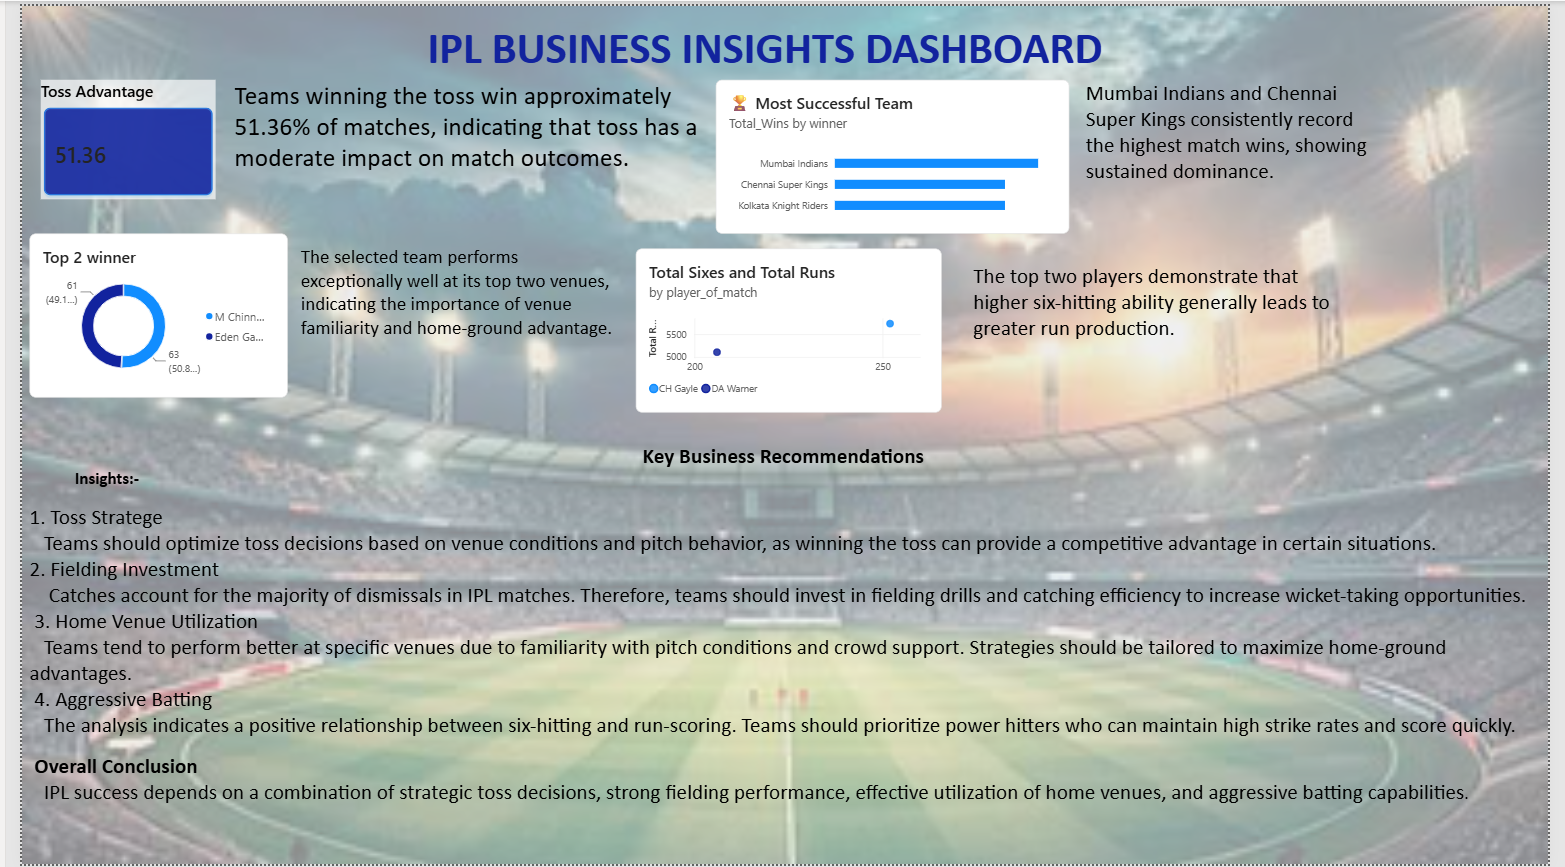

The dashboard page shown, as its layout file describes it:
{"tool":"powerbi","page":{"name":"Business insights","canvas":[1920,1080],"ordinal":5},"visuals":[{"type":"textbox","box":[10,0,1850,93.3],"z":0},{"type":"cardVisual","title":"Toss Advantage","fields":{"Data":["matches.Toss_Win_Percentage"]},"box":[23.3,93.3,220,150],"z":1000},{"type":"textbox","box":[266.7,93.3,648.3,150],"z":2000},{"type":"barChart","title":"🏆 Most Successful Team","fields":{"Category":["matches.winner"],"Y":["matches.Total_Wins"]},"box":[873.3,93.3,445,193.3],"z":3000},{"type":"textbox","box":[1338.3,93.3,370,228.3],"z":4000},{"type":"donutChart","title":"Top 2 winner","fields":{"Category":["matches.venue"],"Y":["CountNonNull(matches.winner)"]},"box":[10,286.7,325,206.7],"z":5000},{"type":"scatterChart","fields":{"X":["deliveries.Total Sixes"],"Y":["deliveries.Total Runs"],"Series":["matches.player_of_match"]},"box":[771.7,305,385,206.7],"z":6000},{"type":"textbox","box":[1196.7,321.7,475,171.7],"z":7000},{"type":"textbox","box":[350,300,395,170],"z":8000},{"type":"textbox","box":[10,548.3,1896.7,466.7],"z":9000}]}

Visuals, with their boxes in screenshot pixels (x1, y1, x2, y2), scaled from the page's 1920x1080 canvas onto the 1565x867 screenshot:
textbox: 8,0,1516,75
"Toss Advantage" cardVisual: 19,75,198,195
textbox: 217,75,746,195
"🏆 Most Successful Team" barChart: 712,75,1075,230
textbox: 1091,75,1392,258
"Top 2 winner" donutChart: 8,230,273,396
scatterChart - deliveries.Total Sixes x deliveries.Total Runs: 629,245,943,411
textbox: 975,258,1363,396
textbox: 285,241,607,377
textbox: 8,440,1554,815
